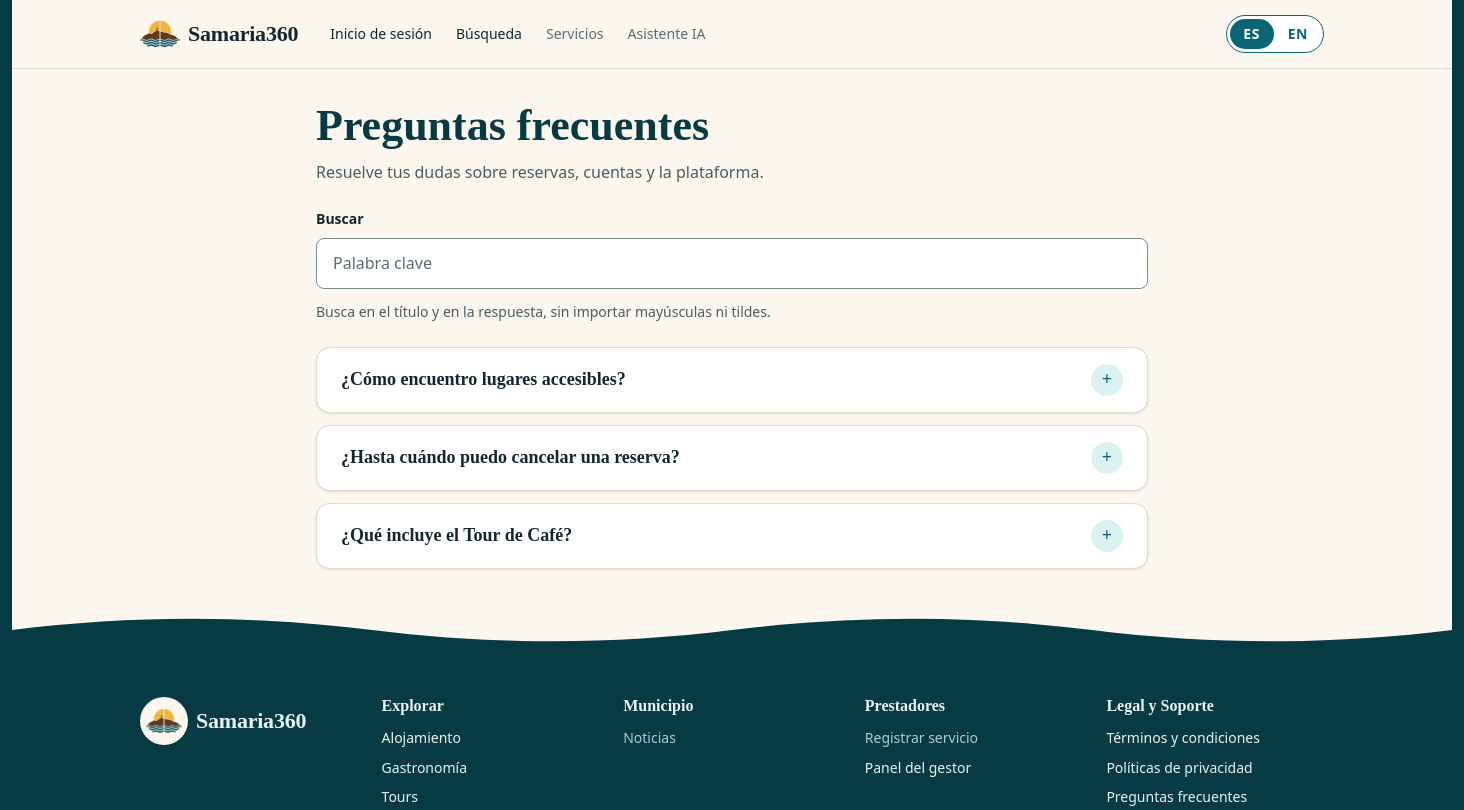
WF-13, sección pública de preguntas frecuentes (RF26) › sin coincidencias lo dice y «Borrar búsqueda» devuelve la lista y el foco al buscador
In the search field labelled "Buscar": [732, 264] box [333,239,1131,288], type "parqueadero"
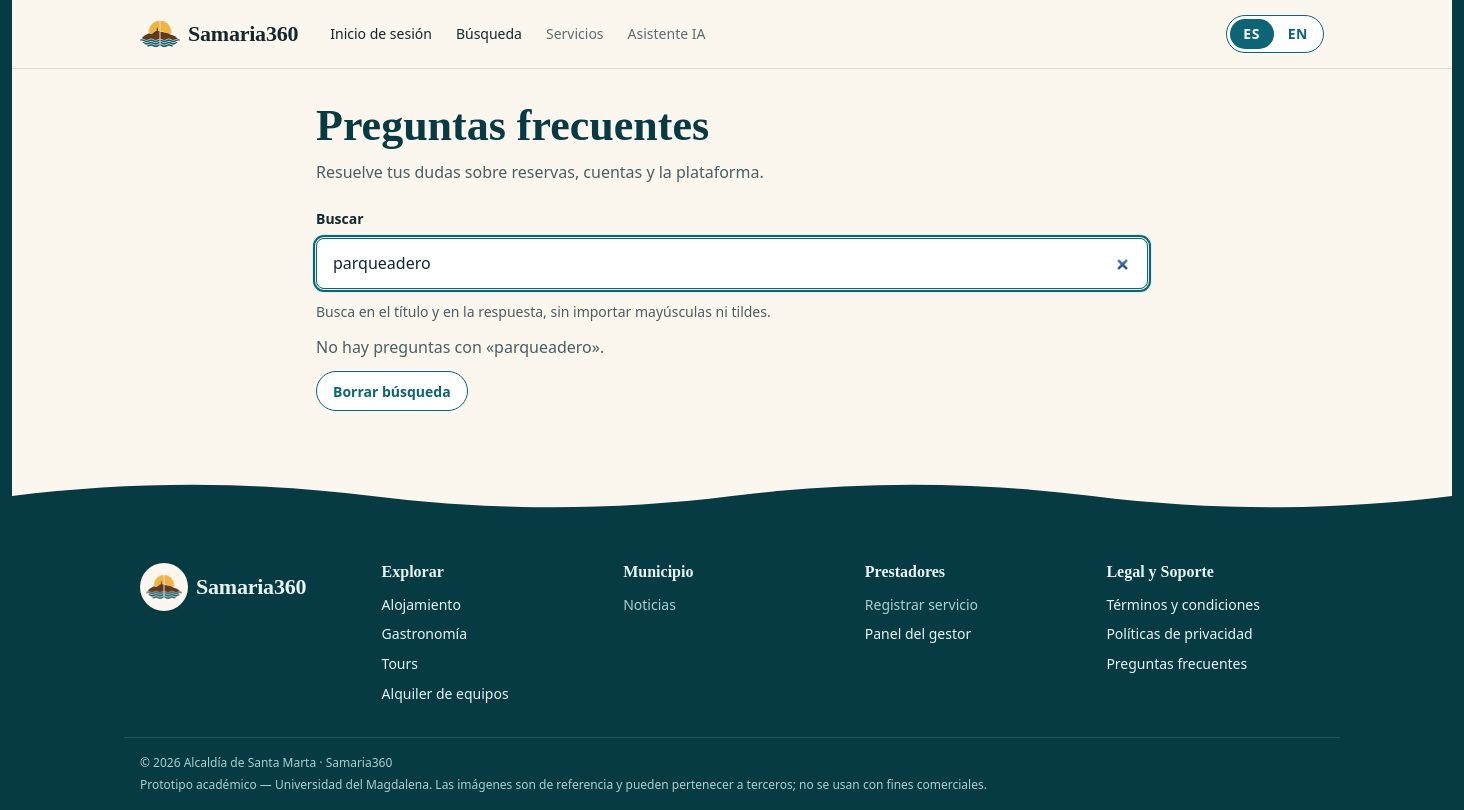
Expected: the message reads "No hay preguntas con «parqueadero».", [316,336,604,358]
Click the button "Borrar búsqueda": [392, 391] box [316,371,468,411]
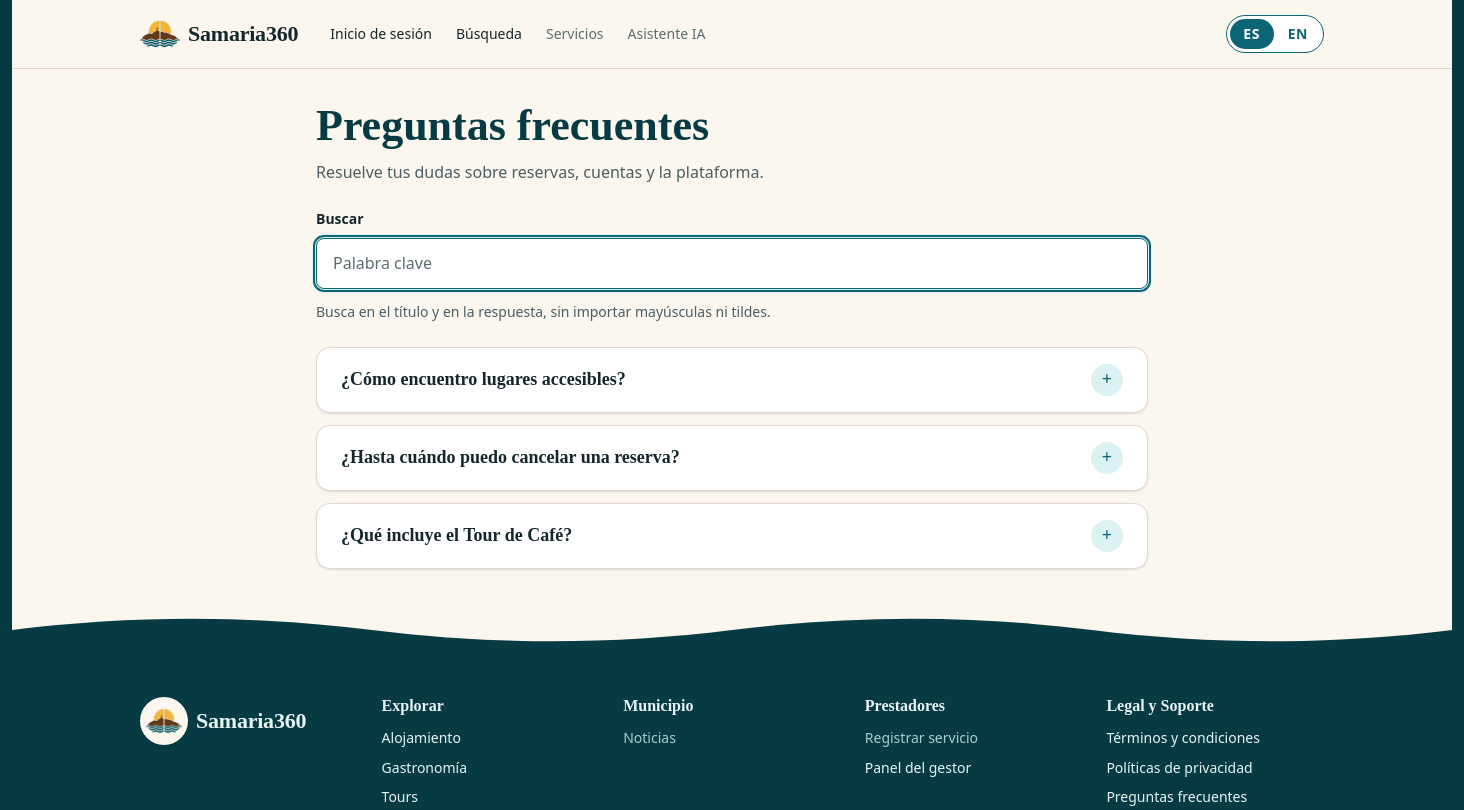
Expected: the search field labelled "Buscar" is empty, [333,239,1131,288]
